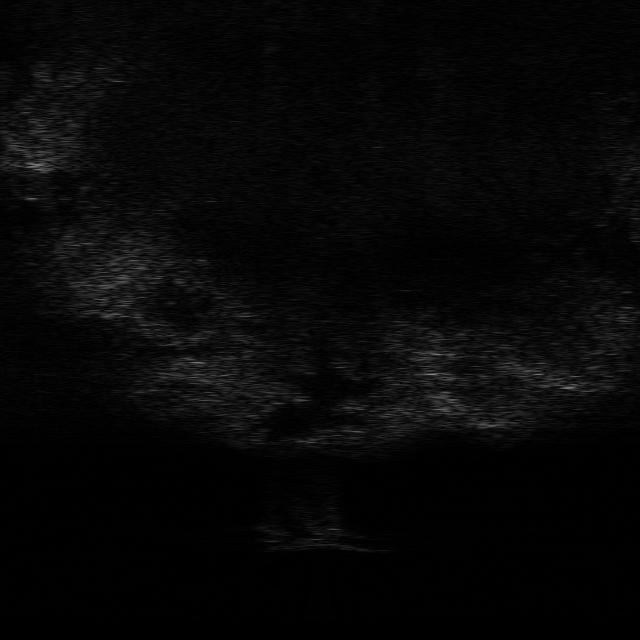plane: (258, 519, 382, 553)
